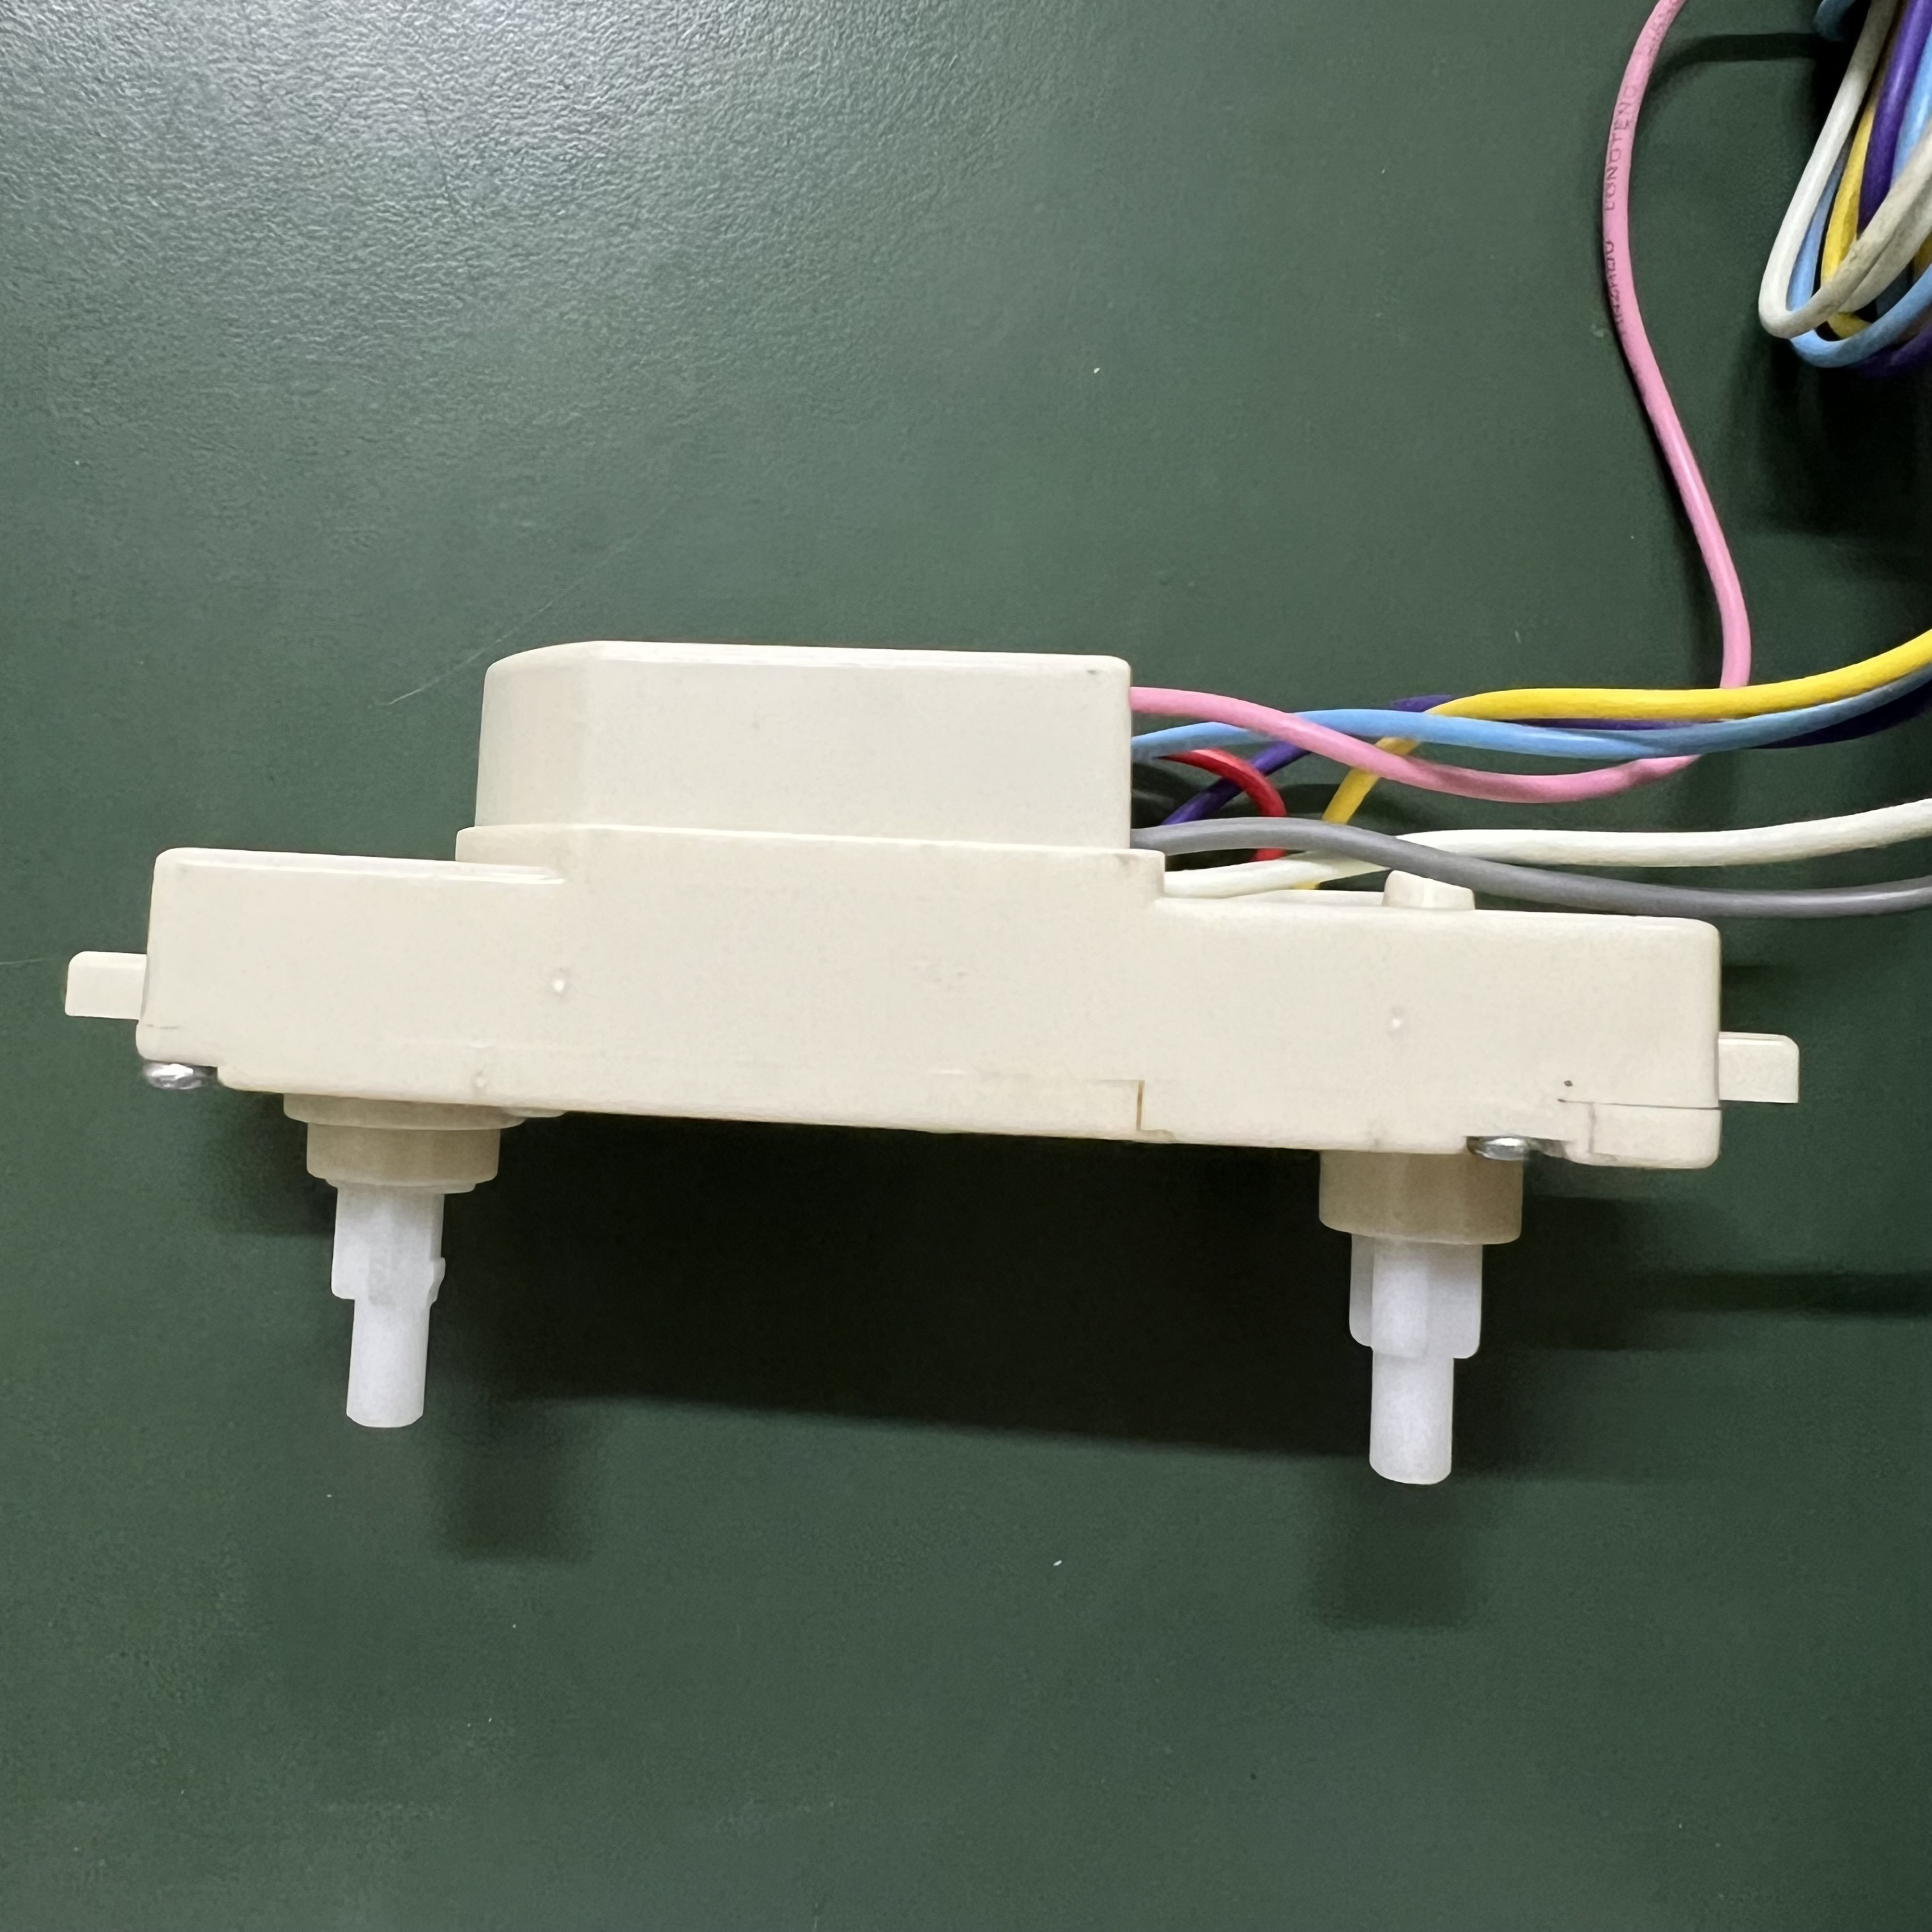rectangle_timer: (28, 609, 1833, 1560)
